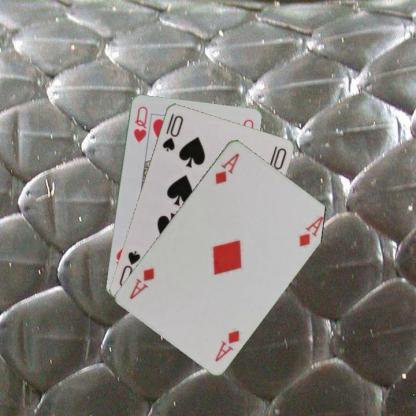10s: (160, 110, 184, 152)
Ad: (211, 150, 240, 186), (212, 327, 241, 363)
Qh: (130, 104, 148, 144)
